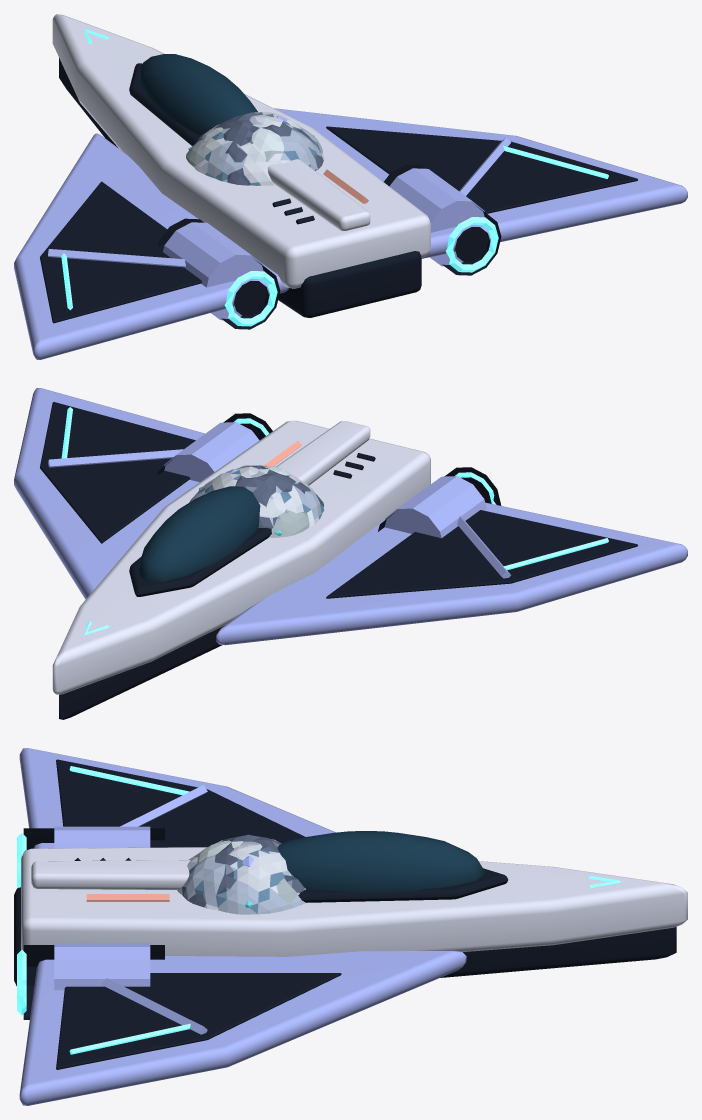
The model's file is space-drift.glb.
3 views of the same model, one above another, from view 1: azimuth 30°, elevation 25°; view 2: azimuth 150°, elevation 25°; view 3: azimuth 270°, elevation 25° (orthographic). The views are drawn at different scales.
Parts seen in each view (by area): view 1: explorer_alloy, explorer_graphite, explorer_ceramic, explorer_glass, planet_ice, explorer_cyan, planet_basalt, planet_ocean; view 2: explorer_alloy, explorer_ceramic, explorer_graphite, explorer_glass, planet_ice, explorer_cyan, planet_basalt, planet_ocean; view 3: explorer_ceramic, explorer_alloy, explorer_graphite, explorer_glass, planet_ice, explorer_cyan, planet_basalt, planet_ocean, explorer_coral.
Boxes of the visible parts, x1,y1,x2,y2 form: explorer_alloy: [14, 108, 687, 359]; explorer_graphite: [40, 58, 637, 329]; explorer_ceramic: [52, 14, 430, 288]; explorer_glass: [138, 54, 257, 135]; planet_ice: [194, 112, 324, 185]; explorer_cyan: [61, 29, 608, 326]; planet_basalt: [197, 112, 323, 185]; planet_ocean: [186, 124, 284, 166]; explorer_alloy: [14, 388, 687, 645]; explorer_ceramic: [52, 420, 430, 694]; explorer_graphite: [40, 402, 637, 719]; explorer_glass: [138, 486, 260, 581]; planet_ice: [189, 465, 324, 537]; explorer_cyan: [61, 407, 608, 635]; planet_basalt: [235, 465, 323, 528]; planet_ocean: [200, 466, 309, 537]; explorer_ceramic: [21, 847, 687, 956]; explorer_alloy: [19, 748, 466, 1105]; explorer_graphite: [14, 759, 676, 1069]; explorer_glass: [277, 831, 485, 892]; planet_ice: [177, 839, 305, 914]; explorer_cyan: [17, 766, 621, 1054]; planet_basalt: [182, 834, 304, 907]; planet_ocean: [194, 840, 296, 907]; explorer_coral: [86, 894, 169, 901].
Bounding box in the file's own units: 9.32 × 2.05 × 7.71.
